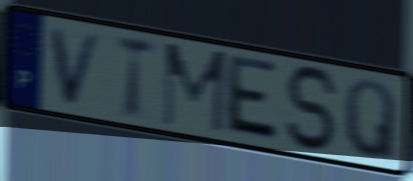E: (222, 52, 281, 147)
M: (159, 40, 229, 137)
Q: (341, 77, 399, 167)
S: (283, 63, 343, 155)
T: (114, 32, 159, 123)
V: (48, 25, 105, 109)
